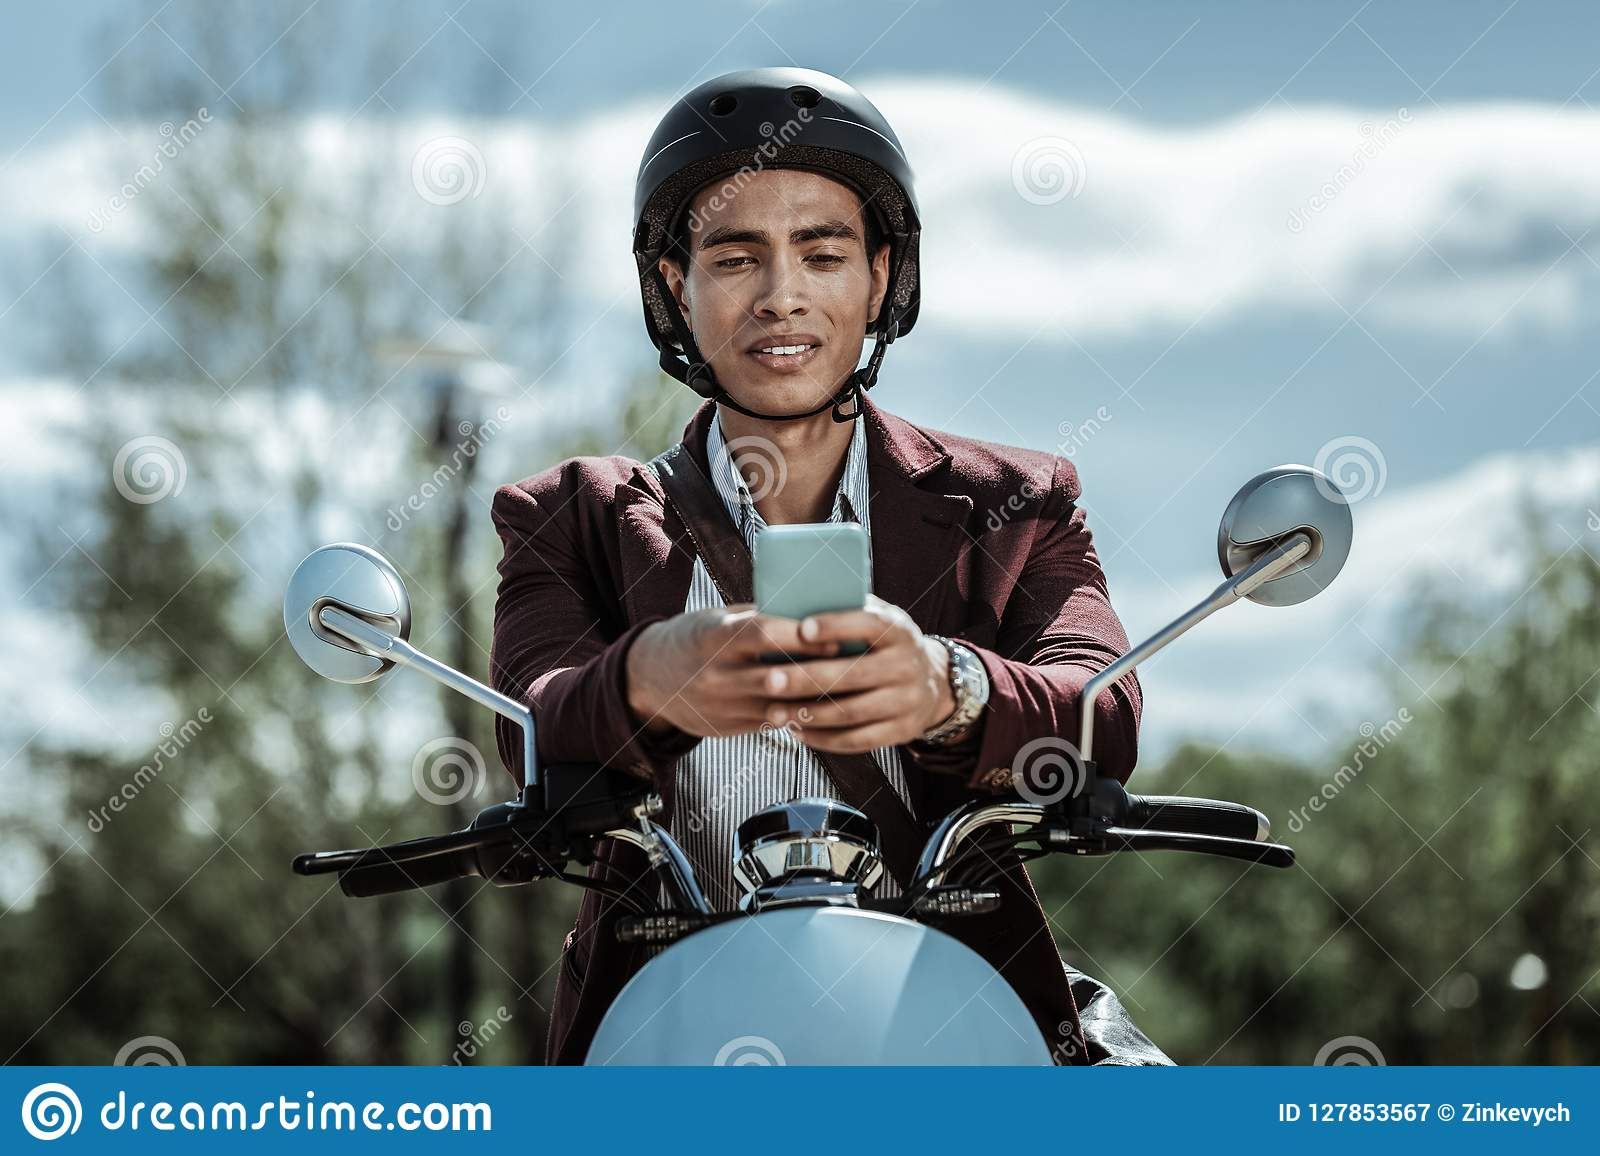helmet: (616, 37, 944, 264)
